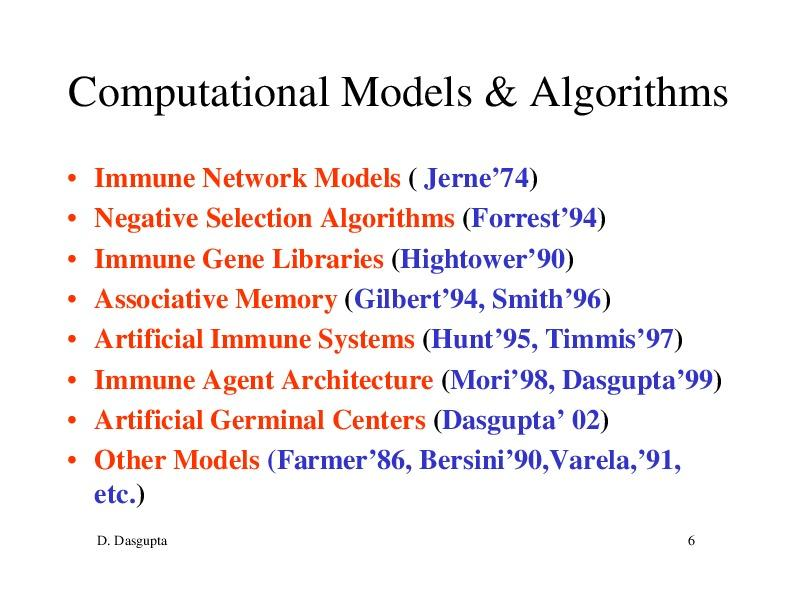paragraph: (50, 150, 738, 564)
title: (64, 62, 736, 118)
